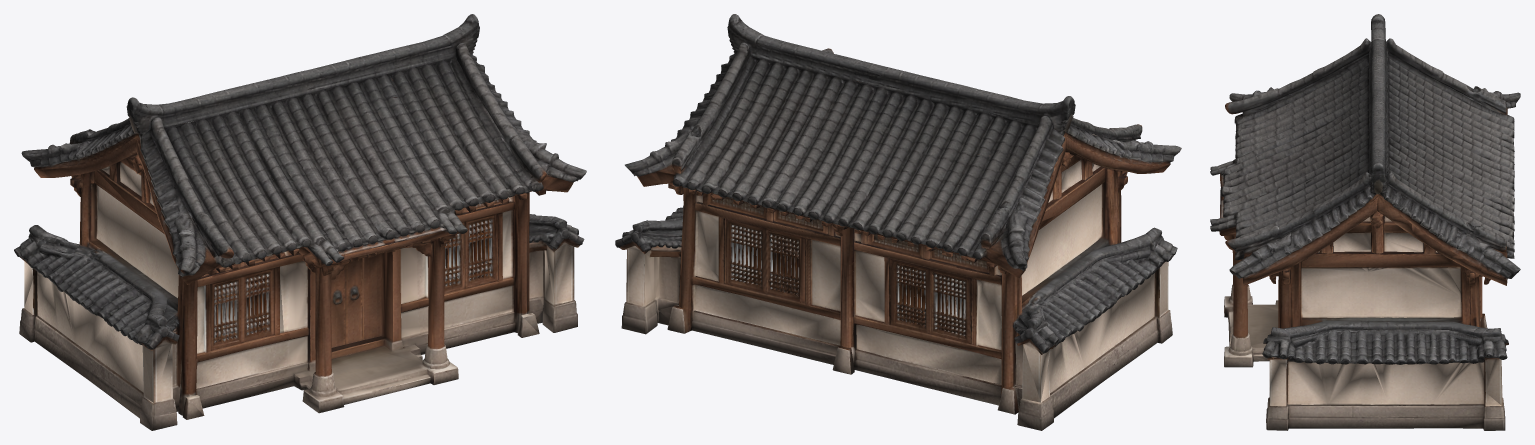
File: 03_Small_Courtyard_Residence_LOD1.fbx
3 renders of one model, left to right at view 1: azimuth 30°, elevation 25°; view 2: azimuth 150°, elevation 25°; view 3: azimuth 270°, elevation 25°, orthographic. The views are drawn at different scales.
Parts seen in each view (by area): view 1: 03_Small_Courtyard_Residence_L1; view 2: 03_Small_Courtyard_Residence_L1; view 3: 03_Small_Courtyard_Residence_L1.
Part boxes in pixels (x1,y1,x2,y2): 03_Small_Courtyard_Residence_L1: [14, 14, 586, 430]; 03_Small_Courtyard_Residence_L1: [615, 14, 1181, 430]; 03_Small_Courtyard_Residence_L1: [1210, 14, 1520, 430].
Size of the model in its own units: 9.17 by 5.5 by 6.21.
